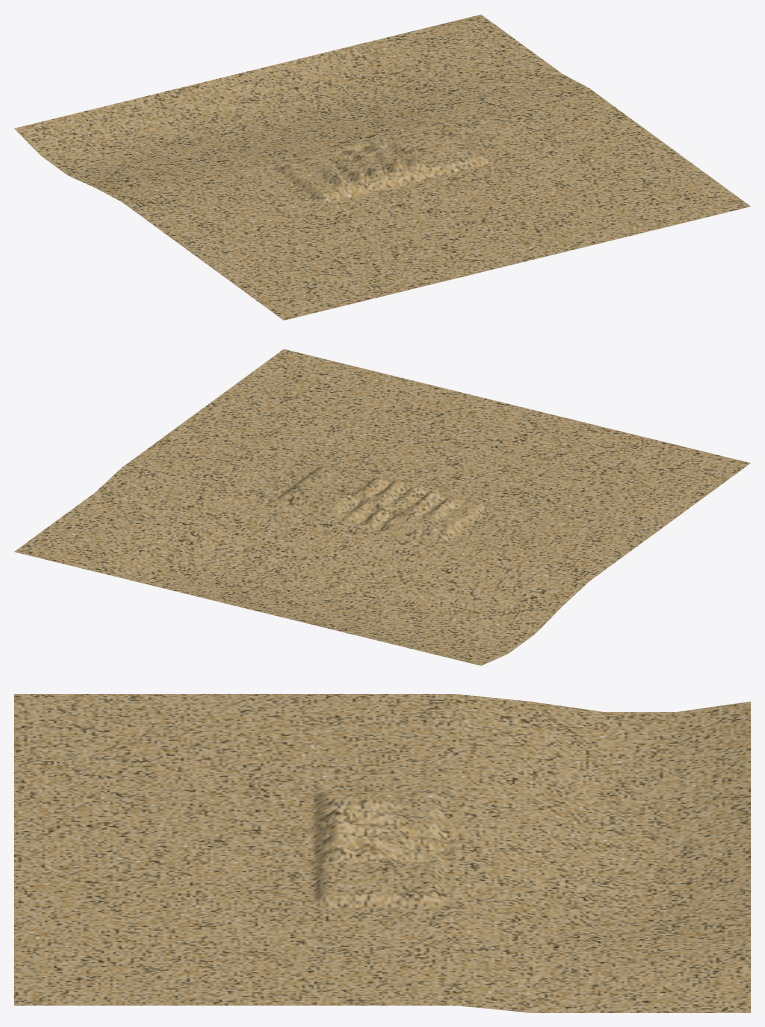
File: mesh-panaluu.glb
3 views of the same model, one above another, from view 1: azimuth 30°, elevation 25°; view 2: azimuth 150°, elevation 25°; view 3: azimuth 270°, elevation 25° (orthographic). The views are drawn at different scales.
Parts seen in each view (by area): view 1: PunaluuTerrain1; view 2: PunaluuTerrain1; view 3: PunaluuTerrain1.
Part boxes in pixels (x1=…): PunaluuTerrain1: x1=14, y1=14, x2=750, y2=320; PunaluuTerrain1: x1=14, y1=349, x2=750, y2=665; PunaluuTerrain1: x1=14, y1=694, x2=750, y2=1012.
Bounding box in the file's own units: 100 × 5.22 × 100.
Materials: 2 (1 with a texture image).
